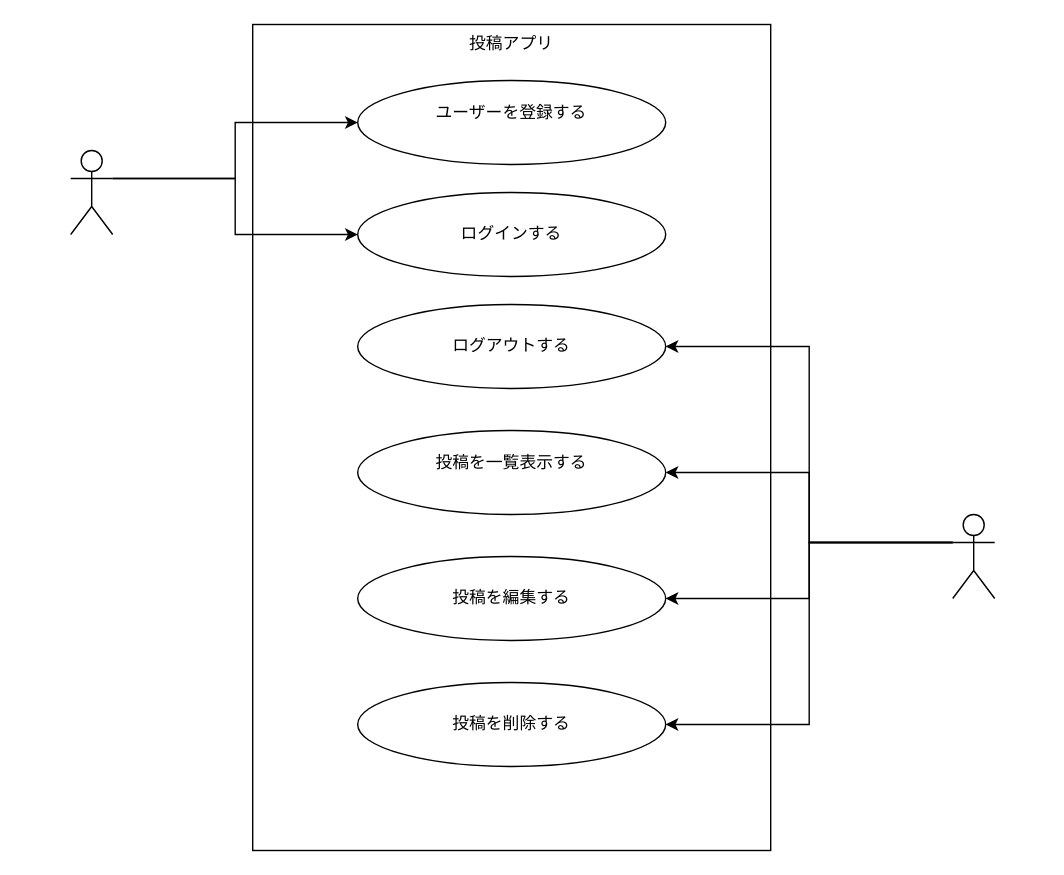
Some shapes in this 1064 by 875 pixel diagram are drawn without their labels. The shapes that lost their labels are listed below. From the top down, each one's centre as x and y in pixels, then its label:
[91,191]: 未ログイン利用者
[973,555]: ログイン済利用者
